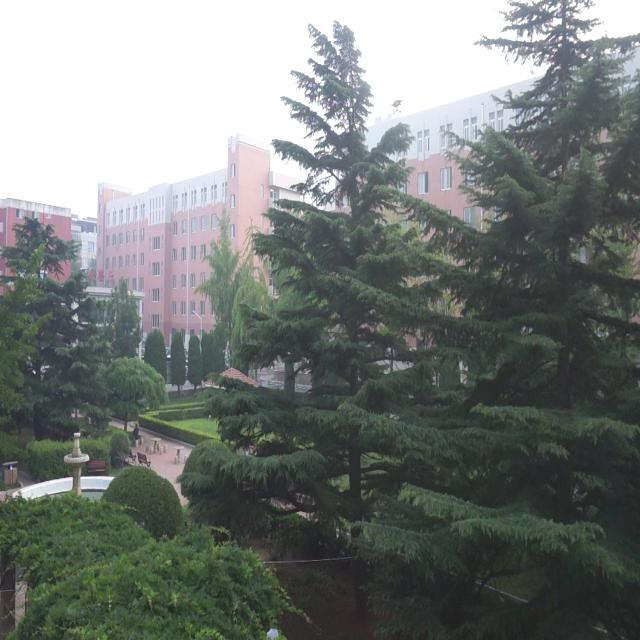drone: (387, 91, 407, 119)
